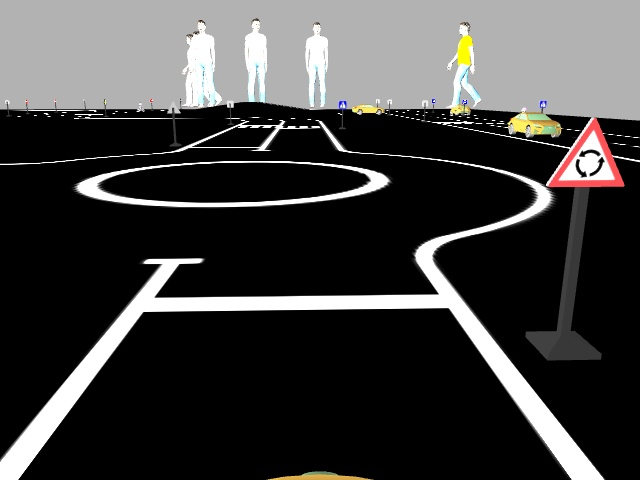Roundabout: (546, 114, 624, 189)
